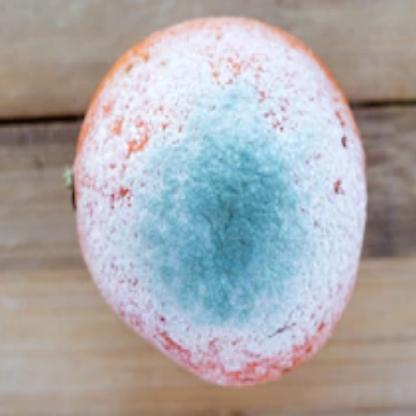rotten: (80, 16, 368, 379)
